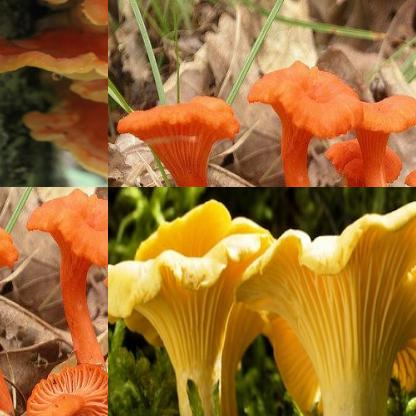CoW: (0, 0, 108, 187)
chanterelle: (235, 200, 416, 416), (108, 197, 280, 416), (247, 57, 363, 187), (26, 187, 108, 368), (115, 94, 242, 187), (351, 94, 416, 187), (11, 363, 108, 416), (324, 135, 403, 187)
